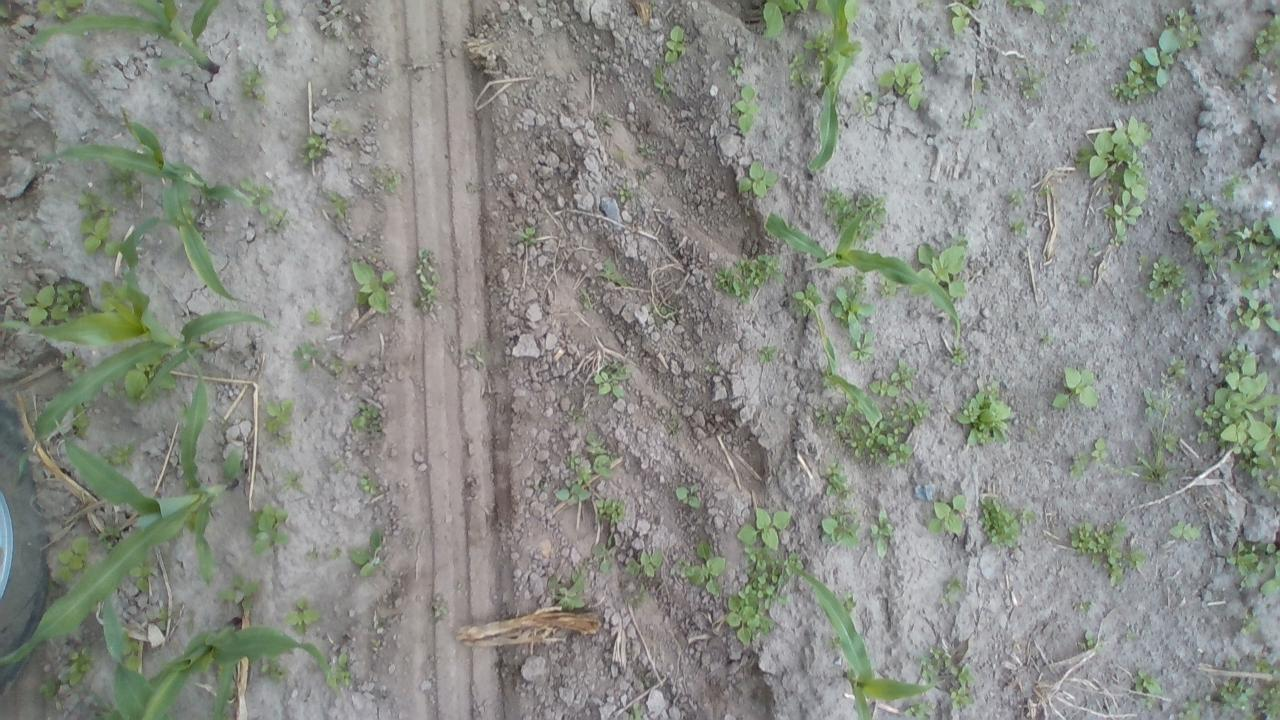Maize: (3, 347, 244, 664), (43, 106, 254, 304), (100, 598, 334, 717), (765, 198, 961, 333), (787, 564, 946, 718), (2, 215, 131, 344), (21, 0, 220, 79), (810, 0, 864, 170), (812, 310, 882, 428), (215, 661, 235, 717)
Weeds: (1195, 341, 1279, 493), (1073, 116, 1152, 246), (1110, 6, 1202, 103), (818, 402, 911, 464), (1071, 516, 1147, 586), (1227, 214, 1280, 295), (1114, 419, 1182, 482), (908, 230, 970, 296), (954, 378, 1012, 448), (716, 249, 784, 304), (1176, 194, 1224, 262), (15, 283, 88, 325), (674, 538, 728, 594), (1225, 540, 1280, 594), (976, 499, 1036, 544), (352, 259, 399, 315), (874, 59, 924, 111), (741, 548, 785, 606), (48, 533, 94, 588), (565, 432, 617, 480), (726, 592, 772, 646), (736, 507, 790, 551), (77, 190, 116, 250), (829, 286, 872, 336), (250, 504, 292, 555), (760, 0, 813, 38), (1050, 366, 1100, 406), (929, 493, 972, 539), (546, 564, 587, 610), (1146, 252, 1184, 299), (416, 246, 441, 314), (353, 528, 388, 573), (916, 639, 950, 685), (593, 357, 630, 398), (238, 176, 280, 212), (1236, 298, 1280, 332), (737, 160, 778, 196), (950, 661, 975, 719), (282, 598, 320, 636), (66, 641, 98, 685), (1218, 678, 1251, 720), (732, 87, 760, 136), (821, 462, 856, 500), (870, 507, 894, 561), (260, 0, 294, 38), (218, 578, 256, 611), (822, 188, 850, 232), (823, 516, 862, 546), (1253, 16, 1280, 56), (624, 548, 662, 576), (889, 356, 921, 389), (265, 400, 297, 432), (794, 280, 823, 315), (662, 24, 688, 63), (30, 0, 85, 18), (326, 654, 352, 690), (785, 49, 811, 85), (302, 132, 331, 164), (102, 441, 139, 466), (1014, 63, 1042, 96), (595, 258, 627, 286), (591, 540, 615, 576), (242, 66, 266, 100), (902, 397, 934, 422), (1220, 171, 1245, 203), (592, 499, 626, 522), (322, 189, 348, 219), (553, 483, 592, 503), (850, 332, 877, 360), (854, 192, 888, 214), (1257, 688, 1280, 720), (1132, 670, 1164, 693), (676, 482, 703, 509), (124, 632, 143, 670), (110, 170, 142, 192), (294, 341, 320, 368), (802, 30, 832, 52), (1067, 450, 1091, 477), (1168, 522, 1200, 542), (125, 368, 146, 398), (1072, 35, 1102, 56), (262, 208, 288, 232), (962, 104, 986, 130), (133, 566, 154, 594), (1176, 696, 1204, 717), (868, 380, 898, 398), (350, 407, 378, 426), (951, 4, 970, 32), (260, 660, 285, 681), (1142, 386, 1158, 417), (949, 340, 968, 366), (70, 410, 90, 434), (1007, 0, 1047, 12), (856, 92, 876, 114), (39, 682, 66, 698), (1071, 600, 1098, 616), (1091, 436, 1108, 461), (903, 704, 933, 718), (650, 63, 666, 88), (786, 552, 804, 574), (1240, 614, 1262, 632), (1055, 2, 1074, 22), (327, 119, 352, 134), (59, 350, 79, 368), (1253, 656, 1275, 672), (325, 354, 344, 372), (81, 55, 99, 74), (758, 344, 779, 360), (1180, 288, 1196, 308), (522, 228, 539, 246), (1140, 694, 1158, 711), (1166, 360, 1186, 375), (282, 469, 300, 485), (199, 105, 215, 123), (1004, 188, 1022, 204), (728, 56, 741, 78), (929, 46, 951, 59), (614, 187, 633, 202), (386, 173, 402, 190), (842, 594, 859, 610), (880, 280, 897, 296), (1136, 250, 1152, 266), (949, 573, 964, 590), (1012, 219, 1027, 234), (362, 477, 376, 492), (308, 310, 326, 321), (962, 0, 988, 7), (1124, 632, 1142, 642), (1086, 630, 1097, 646), (1227, 655, 1239, 668), (332, 548, 343, 560), (972, 78, 981, 88), (943, 592, 952, 600)
